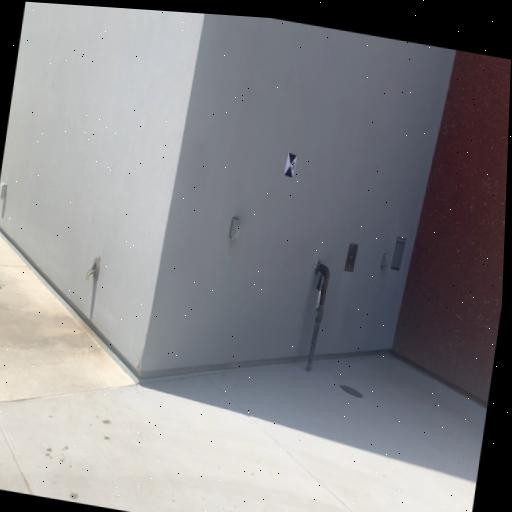target5: (284, 152, 298, 180)
